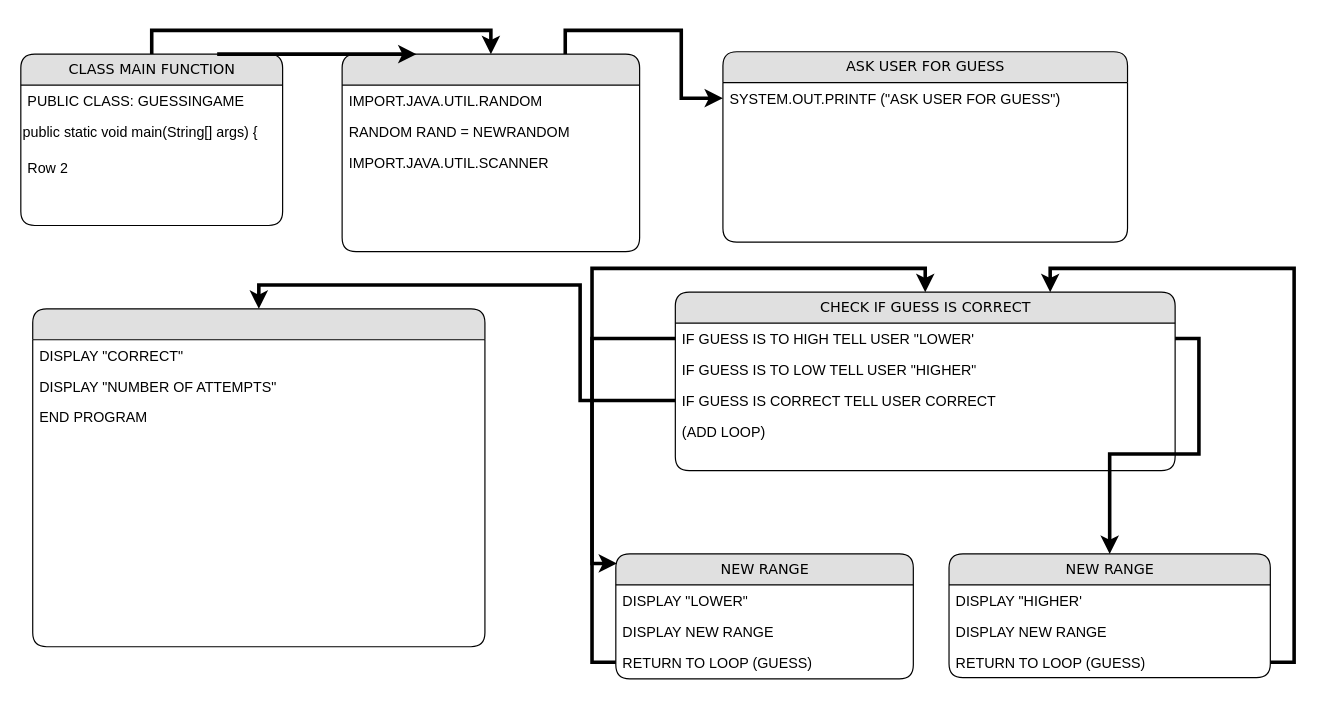
This 1326x702 diagram has some shape labels left out. The box of each missing label's shape, as (x1, y1, x2, y2) in pixels:
RANDOM NUMBER: (341, 53, 640, 252)
WINNER: (32, 308, 485, 647)
